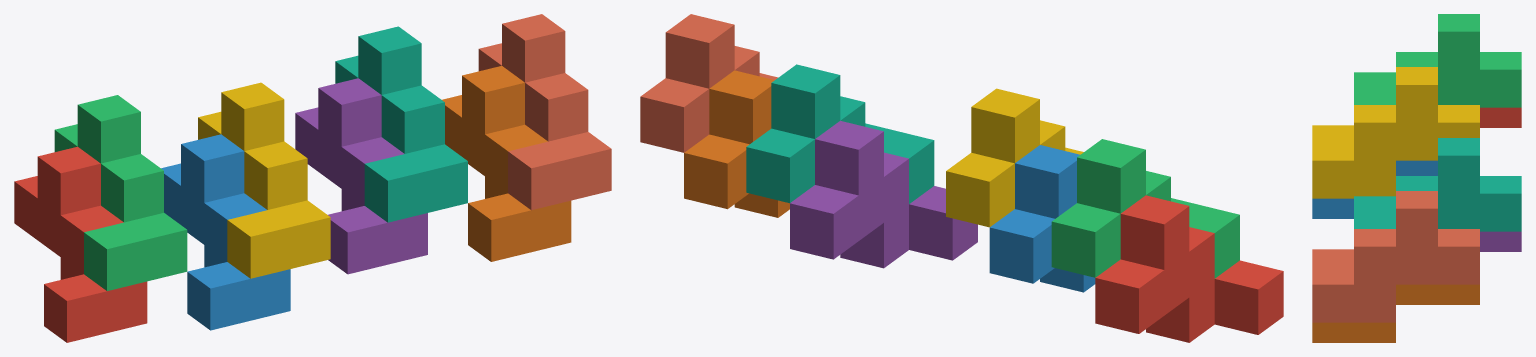
File: tiling.obj
The picture shows the model from 3 angles, left to right: view 1: azimuth 30°, elevation 25°; view 2: azimuth 150°, elevation 25°; view 3: azimuth 270°, elevation 25°; orthographic projection. The views are drawn at different scales.
Visible parts, largest first — view 1: copy_1_domain_8, copy_1_domain_4, copy_1_domain_7, copy_1_domain_3, copy_1_domain_1, copy_1_domain_2, copy_1_domain_5, copy_1_domain_6; view 2: copy_1_domain_1, copy_1_domain_5, copy_1_domain_3, copy_1_domain_7, copy_1_domain_8, copy_1_domain_4, copy_1_domain_6, copy_1_domain_2; view 3: copy_1_domain_8, copy_1_domain_4, copy_1_domain_3, copy_1_domain_7, copy_1_domain_6, copy_1_domain_2, copy_1_domain_1, copy_1_domain_5.
Part boxes in pixels (bbox=[...]): copy_1_domain_8: bbox=[478, 14, 611, 210]; copy_1_domain_4: bbox=[198, 82, 330, 278]; copy_1_domain_7: bbox=[335, 26, 467, 222]; copy_1_domain_3: bbox=[54, 95, 187, 290]; copy_1_domain_1: bbox=[14, 146, 147, 342]; copy_1_domain_2: bbox=[161, 134, 290, 330]; copy_1_domain_5: bbox=[295, 78, 427, 274]; copy_1_domain_6: bbox=[442, 66, 571, 261]; copy_1_domain_1: bbox=[1095, 195, 1283, 342]; copy_1_domain_5: bbox=[790, 120, 977, 268]; copy_1_domain_3: bbox=[1051, 139, 1239, 278]; copy_1_domain_7: bbox=[746, 64, 934, 203]; copy_1_domain_8: bbox=[640, 14, 778, 152]; copy_1_domain_4: bbox=[946, 88, 1083, 227]; copy_1_domain_6: bbox=[684, 70, 789, 217]; copy_1_domain_2: bbox=[989, 145, 1095, 292]; copy_1_domain_8: bbox=[1312, 191, 1479, 322]; copy_1_domain_4: bbox=[1312, 67, 1479, 198]; copy_1_domain_3: bbox=[1354, 14, 1521, 107]; copy_1_domain_7: bbox=[1354, 138, 1521, 231]; copy_1_domain_6: bbox=[1312, 284, 1479, 342]; copy_1_domain_2: bbox=[1312, 160, 1437, 218]; copy_1_domain_1: bbox=[1480, 107, 1521, 127]; copy_1_domain_5: bbox=[1480, 231, 1521, 251].
Bounding box in the file's own units: 13 × 4 × 5.
